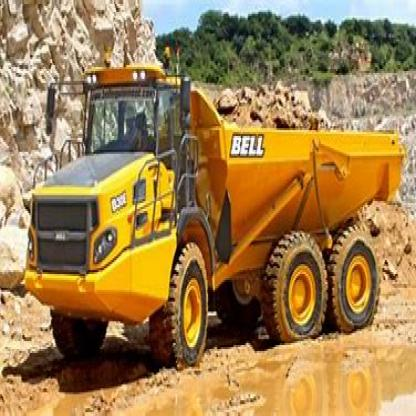dump_truck: (22, 49, 415, 371)
